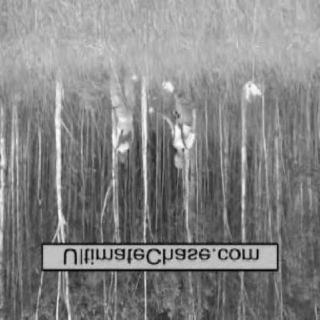Fire: (238, 80, 264, 110)
other: (115, 107, 131, 131)
